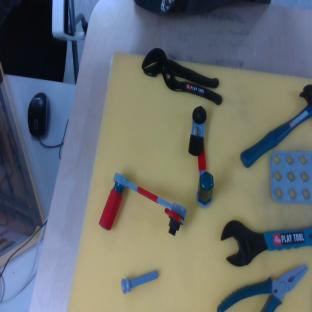non_pass: (184, 105, 216, 208)
pass: (92, 173, 192, 260)
